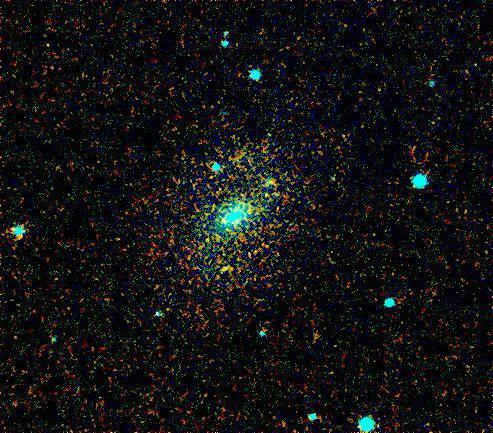star: (210, 254, 240, 284)
